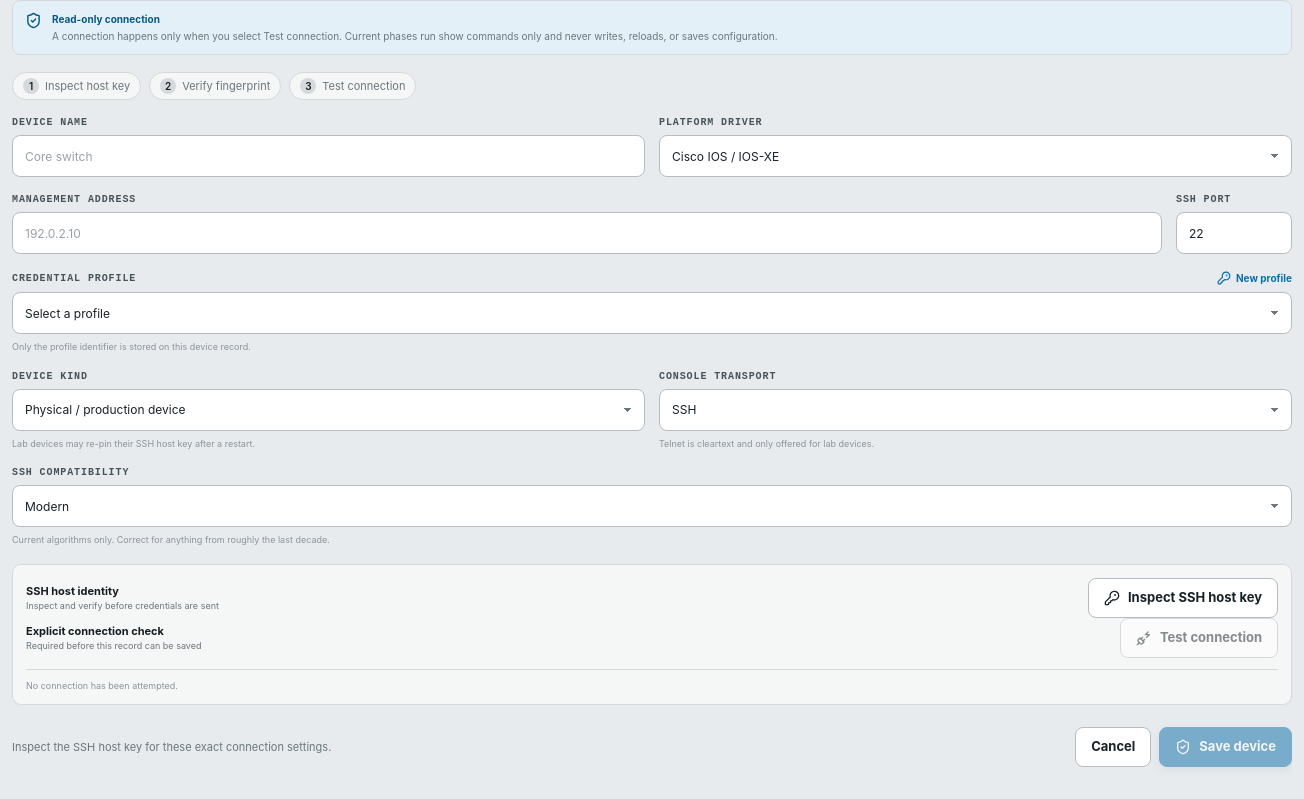
it: DeviceForm explicit connection safety gate › explains that legacy mode is a per-device exception without automatic fallback
Select "Cisco legacy" in the dropdown labelled "SSH compatibility". click: (652, 506)
box: [12, 485, 1292, 527]
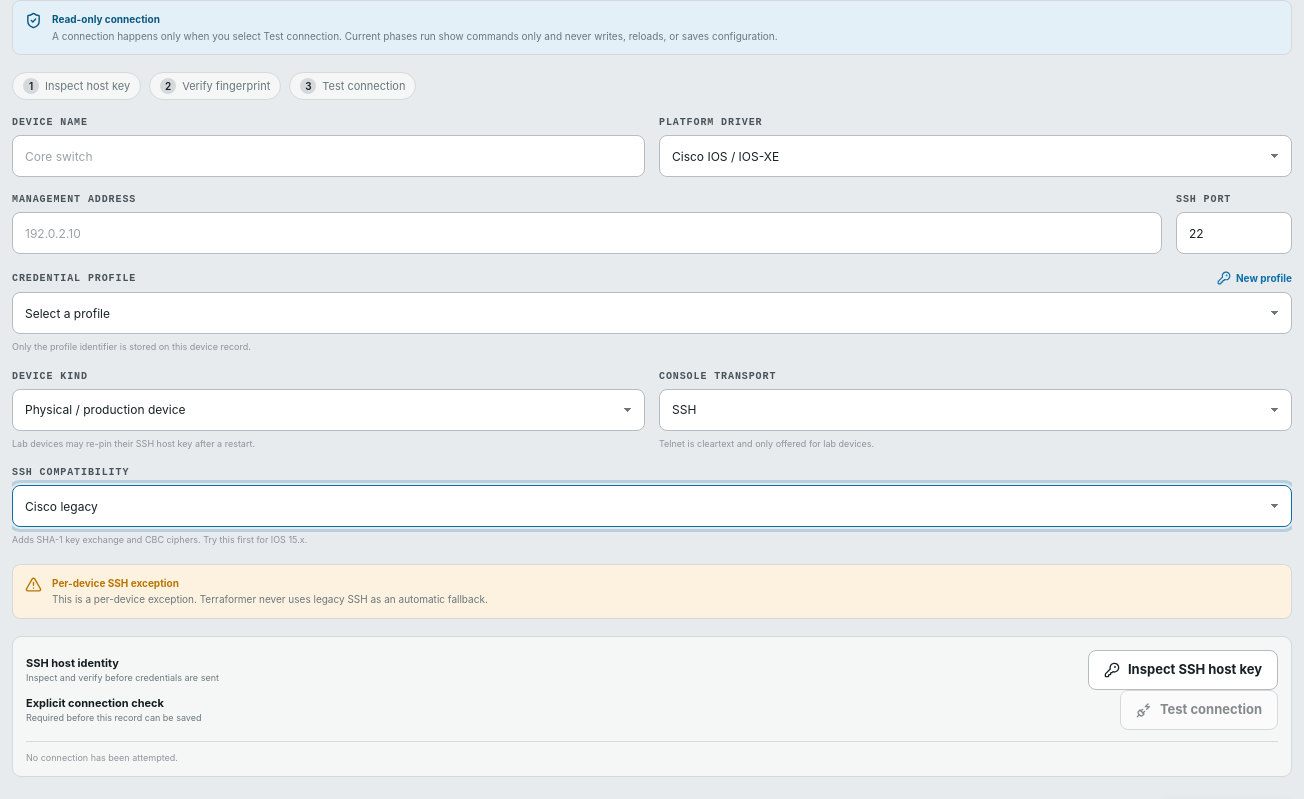
Expected: the text "per-device exception" is shown, [52, 593, 488, 605]
